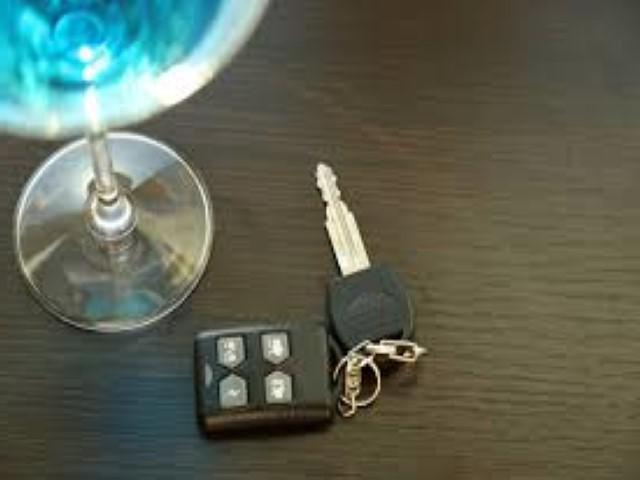key: (312, 157, 418, 418)
